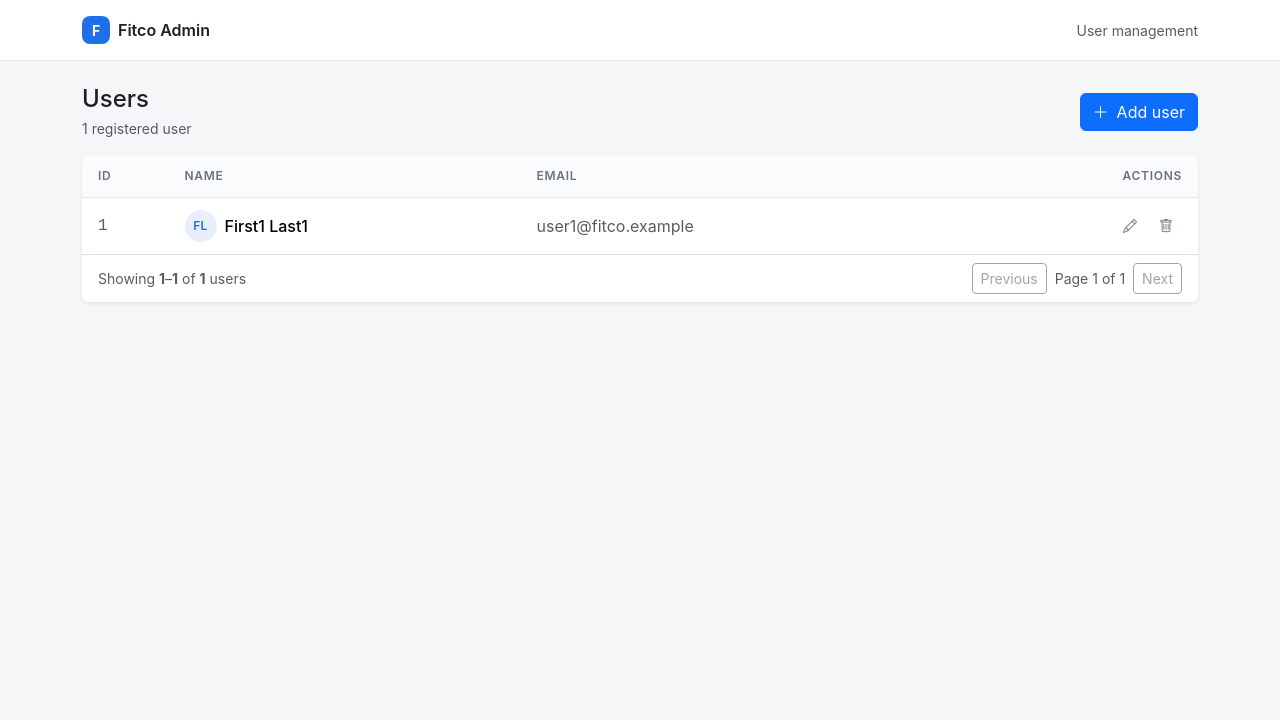
Test: deleting a user › reports a failed delete instead of silently doing nothing
The width and height of the screenshot is (1280, 720).
Expected: the text "First1 Last1" is shown, x1=224 y1=214 x2=308 y2=238
Click the button named "delete first1 last1": (1166, 226) x1=1150 y1=212 x2=1182 y2=240
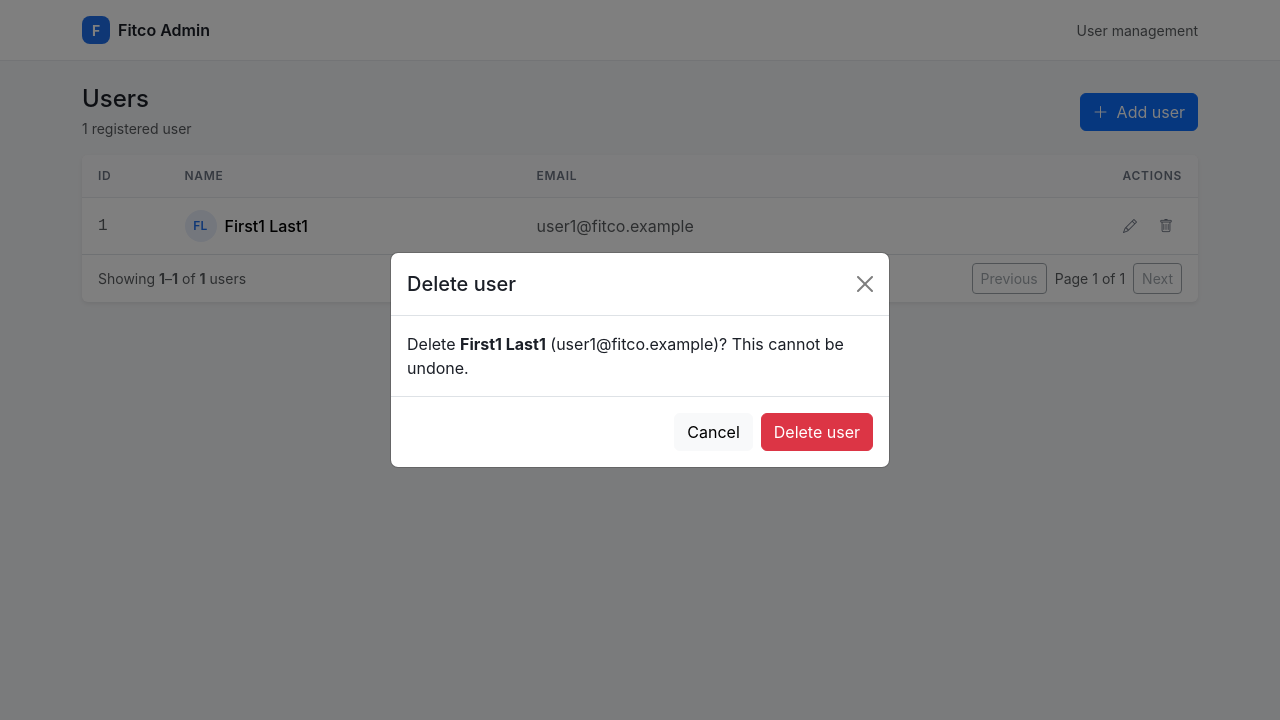
Click the button "Delete user": (817, 432) x1=761 y1=413 x2=873 y2=451
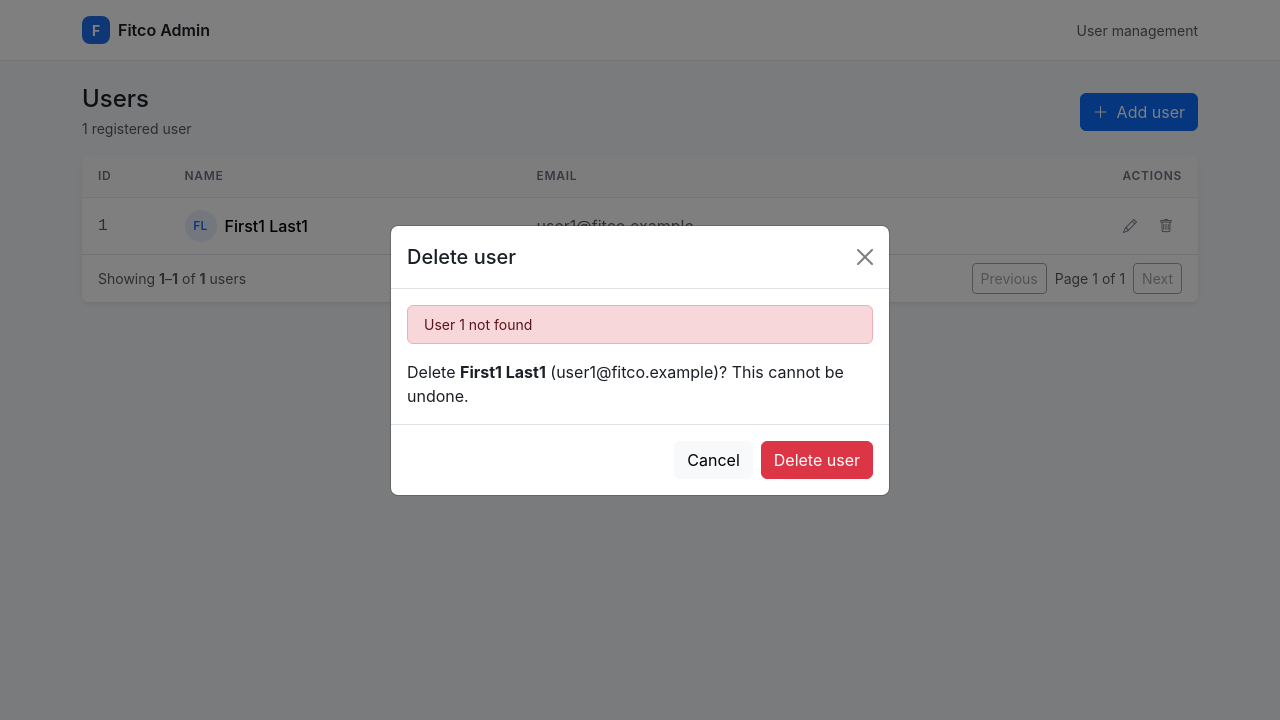
Expected: the text "User 1 not found" is shown, x1=407 y1=304 x2=873 y2=344
